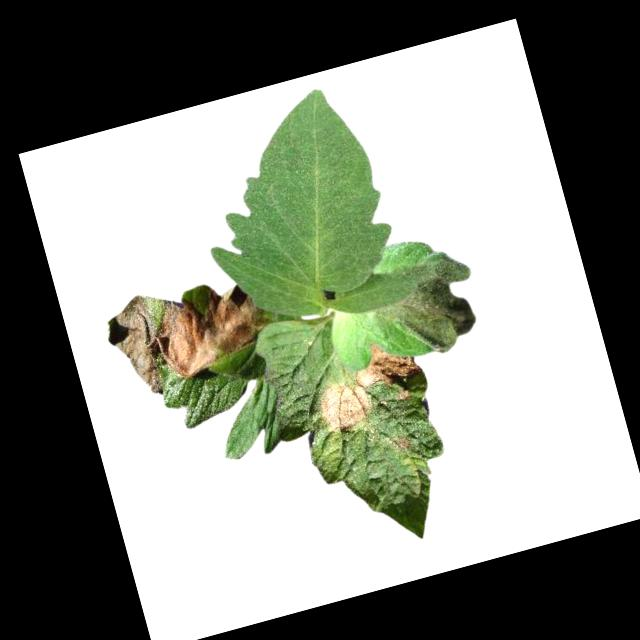Late_blight: (98, 263, 279, 403), (361, 248, 489, 369), (306, 333, 432, 438), (392, 439, 411, 454)
